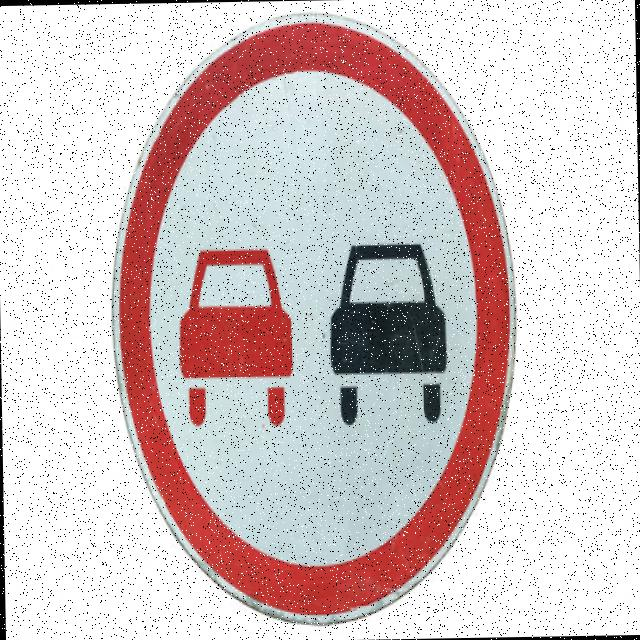no_passing: (105, 9, 530, 636)
